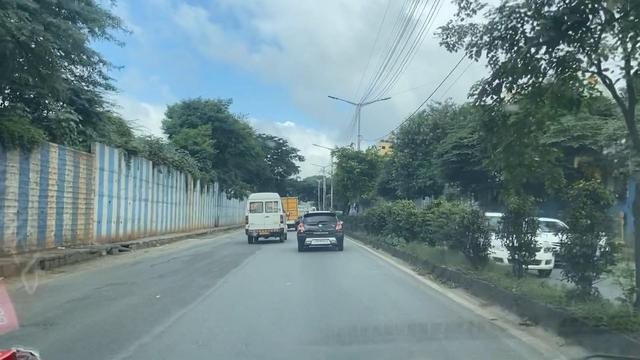HMV: (243, 194, 285, 240)
LMV: (298, 214, 342, 250)
